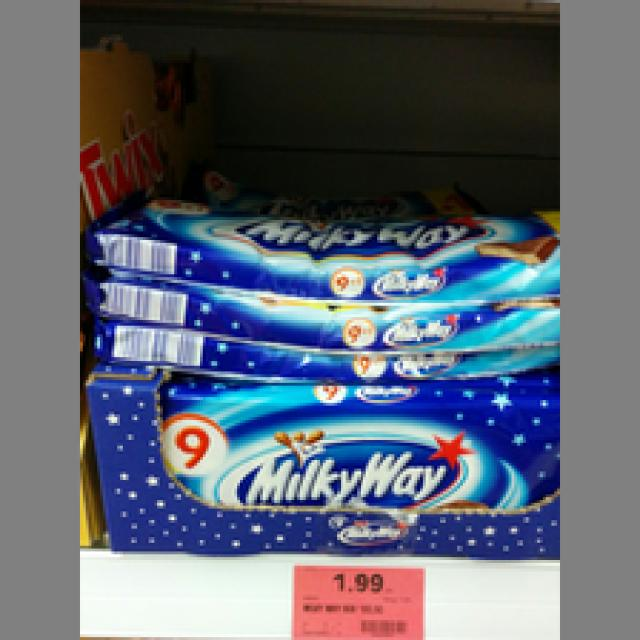groceries: (83, 183, 548, 306), (154, 374, 557, 512), (97, 306, 552, 380)
